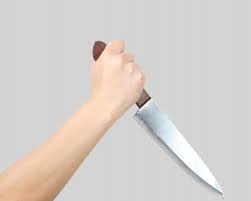knife: (88, 35, 225, 199)
